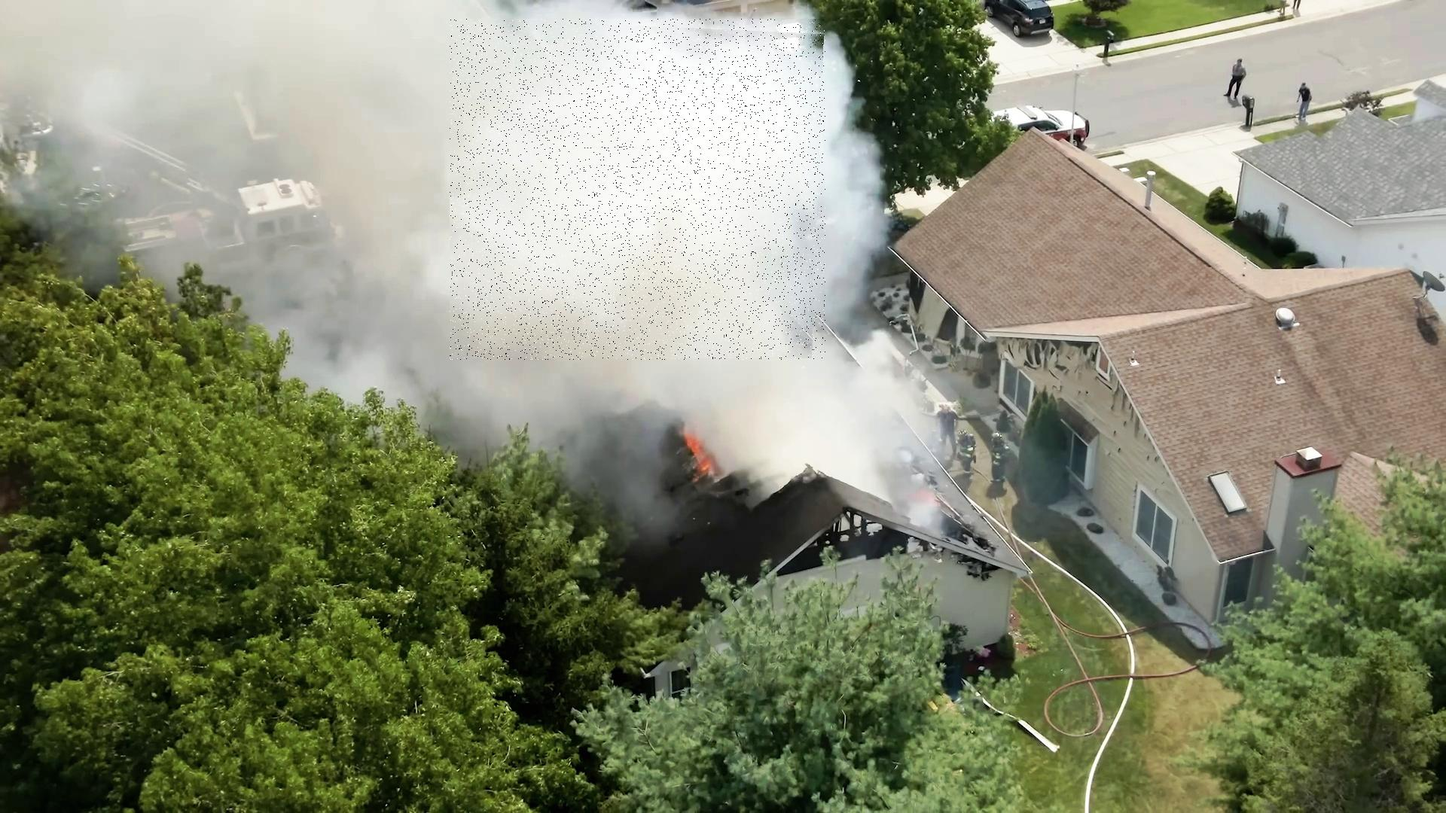smoke: (450, 19, 826, 360)
